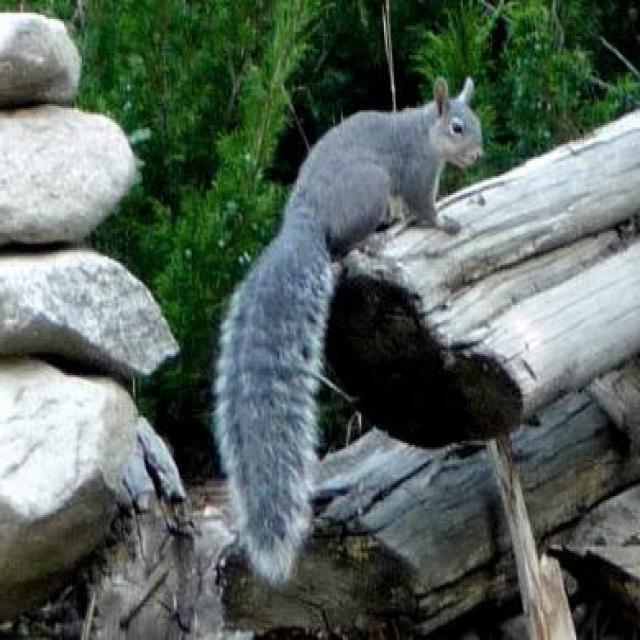squirrel: (215, 78, 482, 579)
